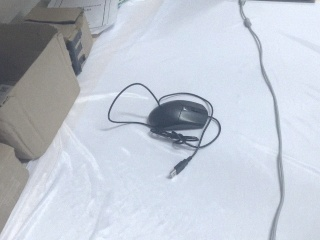box: (1, 23, 80, 161), (23, 7, 93, 76)
mouse: (145, 100, 209, 134)
